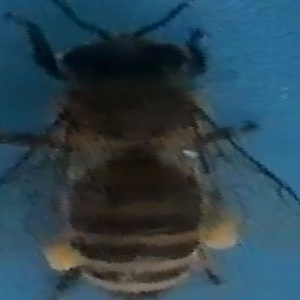bee: (7, 4, 280, 300)
